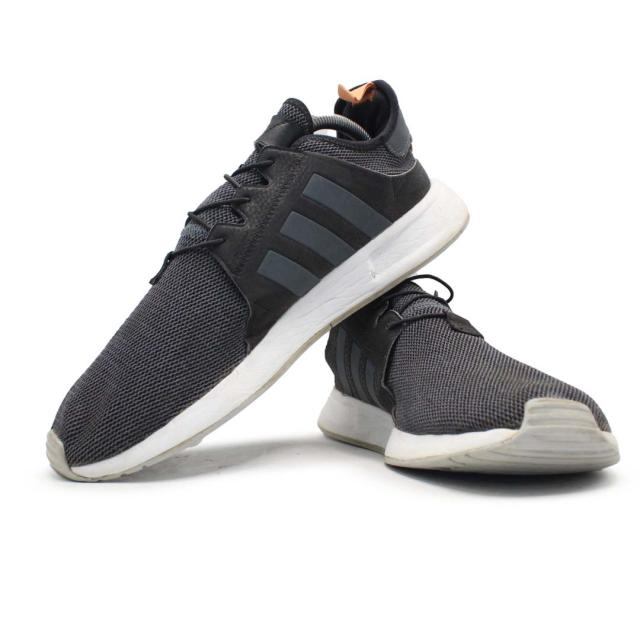heel: (337, 78, 435, 222)
midsole: (46, 182, 470, 484), (316, 388, 619, 475)
uppersole: (52, 97, 389, 469), (338, 273, 608, 436)
